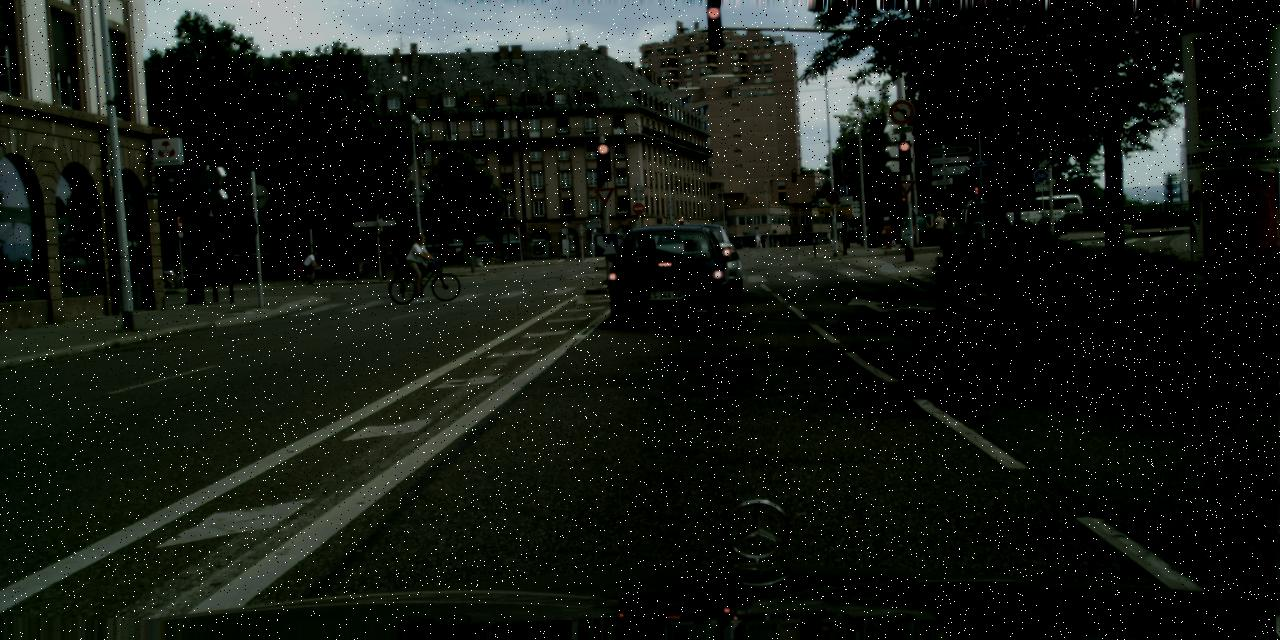ped: (408, 234, 433, 298), (931, 210, 946, 245), (912, 211, 926, 245), (163, 256, 175, 285), (882, 220, 893, 250), (306, 251, 317, 278), (970, 208, 980, 234), (948, 217, 958, 239), (754, 234, 764, 248), (842, 228, 849, 247)
